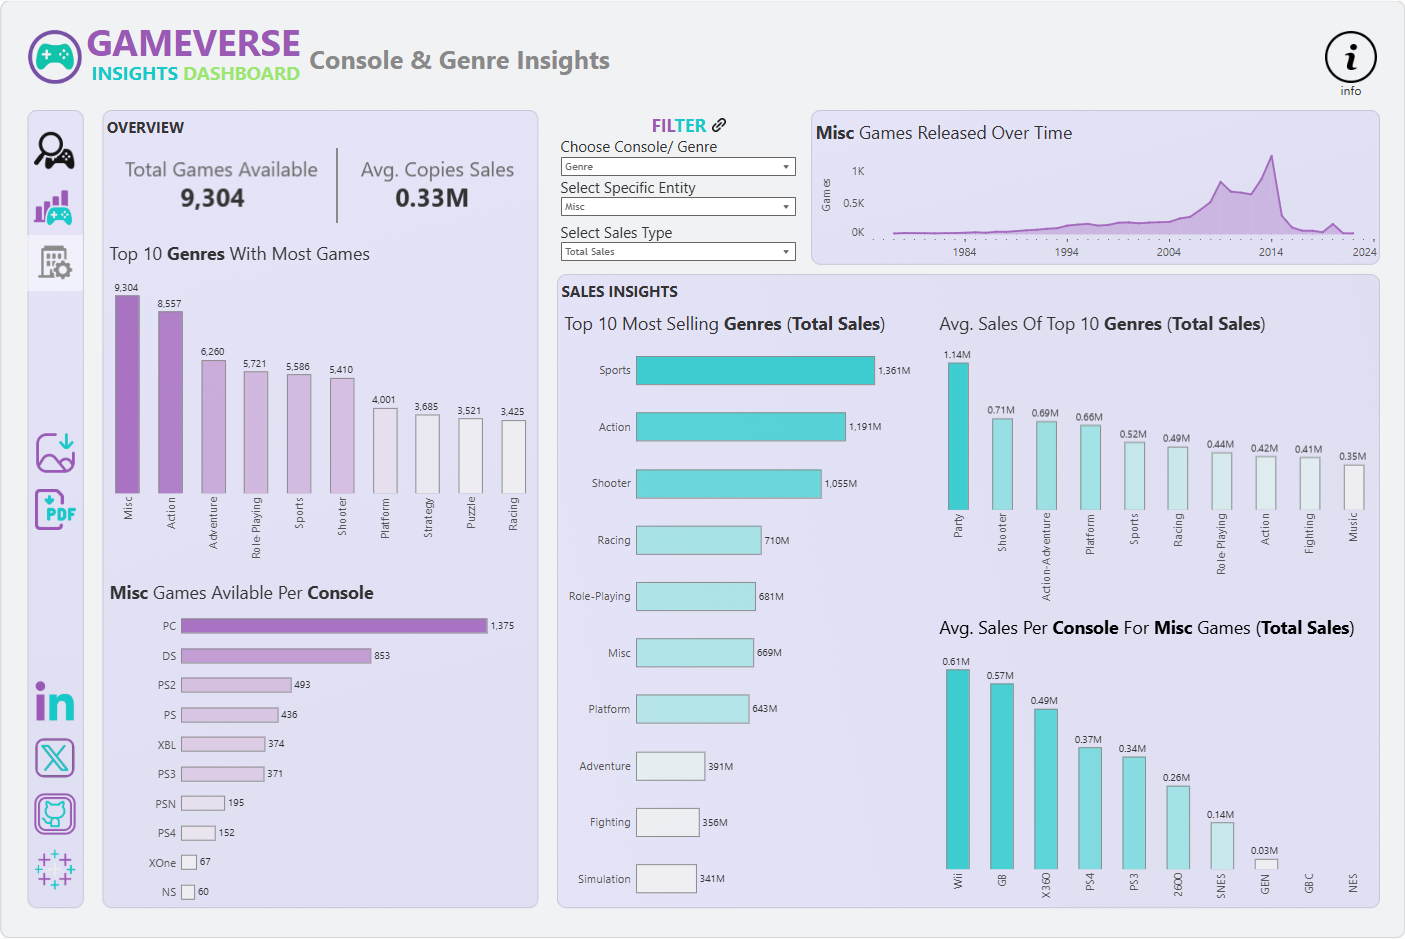

Layout of this report page (visuals, bound fields, positions):
{"tool":"tableau","page":{"name":"Dashboard 2","canvas":[1400,800],"ordinal":1},"visuals":[{"type":"image","param":"Image/Frame 2.png","box":[0,0,1400,800]},{"type":"image","param":"Image/Logo.png","box":[8,8,260,90]},{"type":"blank","box":[268,8,1124,90]},{"type":"dashboard-object","box":[1310,17,54,54]},{"type":"text","box":[275,33,566,43]},{"type":"blank","box":[91,104,1298,186]},{"type":"blank","box":[28,108,60,10]},{"type":"text","box":[108,108,465,21]},{"type":"parameter","param":"[Parameters].[Parameter 1]","box":[593,108,260,53]},{"type":"worksheet","title":"Con/Gen through time","mark":"Line","rows":["title","title"],"cols":["release_date"],"box":[863,108,509,155]},{"type":"blank","box":[109,109,466,118]},{"type":"dashboard-object","box":[28,118,60,60]},{"type":"worksheet","title":"KPI - TotalGames","mark":"Automatic","box":[108,129,253,100]},{"type":"blank","box":[361,129,2,100]},{"type":"worksheet","title":"KPI - AvgSales","mark":"Automatic","box":[363,129,210,100]},{"type":"filter","title":"KPI - TotalGames","param":"[federated.18w1nm404yaaw618ulkqm1dnj3dy].[none:Calculation_1497446943704072193:n","box":[593,161,260,49]},{"type":"dashboard-object","box":[28,178,60,60]},{"type":"parameter","param":"[Parameters].[Parameter 2]","box":[593,210,260,53]},{"type":"worksheet","title":"Top 10 Console/Genre","mark":"Automatic","rows":["Video Games Data.csv_87575D1885CE4F9F9E11FA6B9C9073A3"],"cols":["Calculation_1497446943697616896"],"box":[108,229,465,233]},{"type":"dashboard-object","box":[28,238,60,60]},{"type":"text","box":[593,273,779,21]},{"type":"text","box":[91,290,1298,298]},{"type":"worksheet","title":"Top 10 Con/Gen(sales)","mark":"Automatic","rows":["Calculation_1497446943697616896"],"cols":["Calculation_1052435005628178432"],"box":[593,294,360,478]},{"type":"worksheet","title":"TOP 10 Con/Gen AvgSales","mark":"Automatic","rows":["Calculation_1052435005628178432"],"cols":["Calculation_1497446943697616896"],"box":[953,294,414,239]},{"type":"blank","box":[28,298,60,123]},{"type":"dashboard-object","box":[28,421,60,55]},{"type":"worksheet","title":"Con/Gen Per Gen/Con","mark":"Bar","rows":["Console/Genre (copy)_1497446943706566658"],"cols":["Video Games Data.csv_87575D1885CE4F9F9E11FA6B9C9073A3"],"box":[108,462,465,310]},{"type":"dashboard-object","box":[28,476,60,55]},{"type":"blank","box":[28,531,60,50]},{"type":"worksheet","title":"Avg Sales Per Gen by Con","mark":"Automatic","rows":["Calculation_1052435005628178432"],"cols":["Console/Genre (copy)_1497446943706566658"],"box":[953,533,414,239]},{"type":"image","param":"Image/contact-linkedin.png","box":[28,581,60,60]},{"type":"blank","box":[91,588,1298,186]},{"type":"image","param":"Image/contact-github.png","box":[28,641,60,61]},{"type":"image","param":"Image/contact-public.png","box":[28,702,60,60]},{"type":"blank","box":[28,762,60,10]}]}

Visuals, with their boxes on the page's 1400x800 design canvas (x1, y1, x2, y2). These are canvas units, not pixel positions in the 1405x939 screenshot, which may show the page scaled, cropped or inside an application window:
image: x1=0, y1=0, x2=1400, y2=800
image: x1=8, y1=8, x2=268, y2=98
blank: x1=268, y1=8, x2=1392, y2=98
dashboard-object: x1=1310, y1=17, x2=1364, y2=71
text: x1=275, y1=33, x2=841, y2=76
blank: x1=91, y1=104, x2=1389, y2=290
blank: x1=28, y1=108, x2=88, y2=118
text: x1=108, y1=108, x2=573, y2=129
parameter: x1=593, y1=108, x2=853, y2=161
"Con/Gen through time" worksheet (Line marks): x1=863, y1=108, x2=1372, y2=263
blank: x1=109, y1=109, x2=575, y2=227
dashboard-object: x1=28, y1=118, x2=88, y2=178
"KPI - TotalGames" worksheet: x1=108, y1=129, x2=361, y2=229
blank: x1=361, y1=129, x2=363, y2=229
"KPI - AvgSales" worksheet: x1=363, y1=129, x2=573, y2=229
"KPI - TotalGames" filter: x1=593, y1=161, x2=853, y2=210
dashboard-object: x1=28, y1=178, x2=88, y2=238
parameter: x1=593, y1=210, x2=853, y2=263
"Top 10 Console/Genre" worksheet: x1=108, y1=229, x2=573, y2=462
dashboard-object: x1=28, y1=238, x2=88, y2=298
text: x1=593, y1=273, x2=1372, y2=294
text: x1=91, y1=290, x2=1389, y2=588
"Top 10 Con/Gen(sales)" worksheet: x1=593, y1=294, x2=953, y2=772
"TOP 10 Con/Gen AvgSales" worksheet: x1=953, y1=294, x2=1367, y2=533
blank: x1=28, y1=298, x2=88, y2=421
dashboard-object: x1=28, y1=421, x2=88, y2=476
"Con/Gen Per Gen/Con" worksheet (Bar marks): x1=108, y1=462, x2=573, y2=772
dashboard-object: x1=28, y1=476, x2=88, y2=531
blank: x1=28, y1=531, x2=88, y2=581
"Avg Sales Per Gen by Con" worksheet: x1=953, y1=533, x2=1367, y2=772
image: x1=28, y1=581, x2=88, y2=641
blank: x1=91, y1=588, x2=1389, y2=774
image: x1=28, y1=641, x2=88, y2=702
image: x1=28, y1=702, x2=88, y2=762
blank: x1=28, y1=762, x2=88, y2=772
